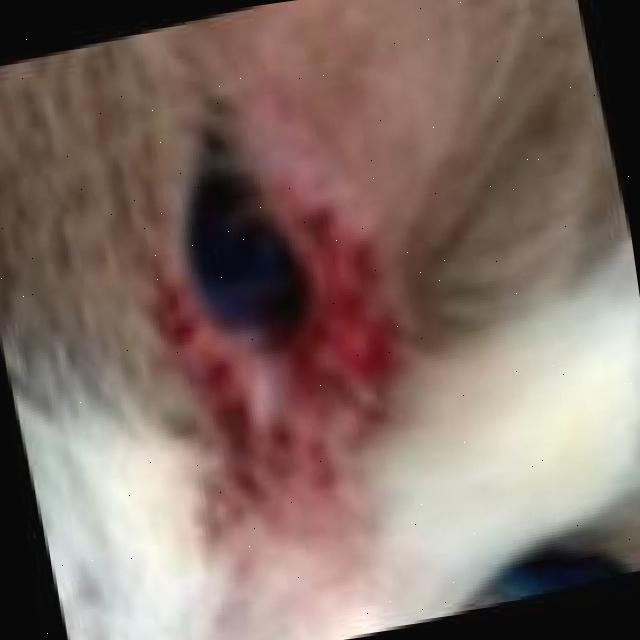cat-ringworm: (212, 344, 380, 518), (304, 223, 386, 331)
